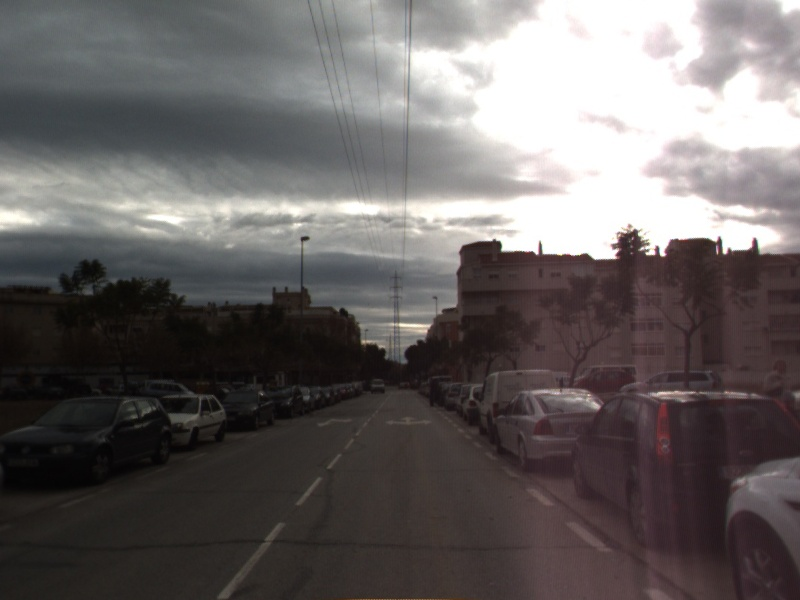STRAIGHT_LEFT_RIGHT: (383, 414, 434, 427)
